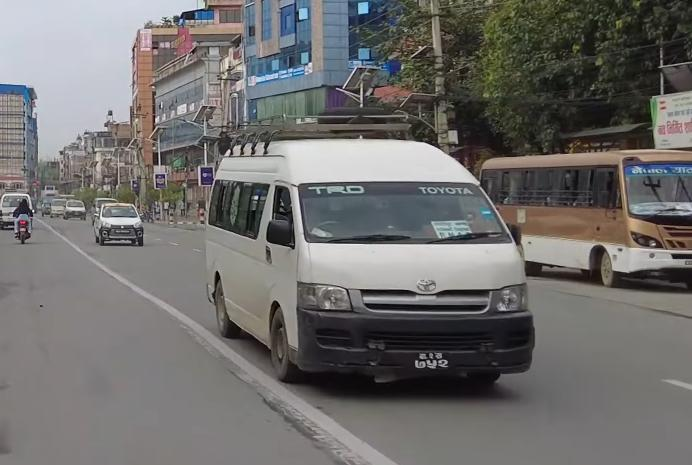bike: (14, 208, 34, 246)
bus: (479, 145, 692, 292)
car: (93, 202, 148, 247)
micro_bus: (209, 136, 542, 397)
